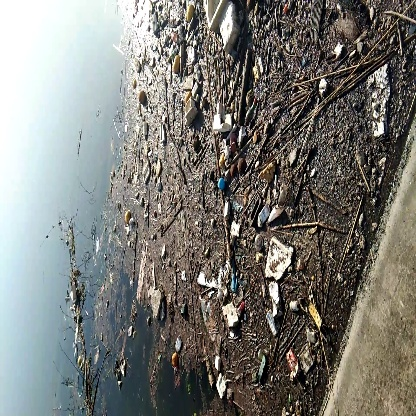branch: (235, 49, 257, 121)
